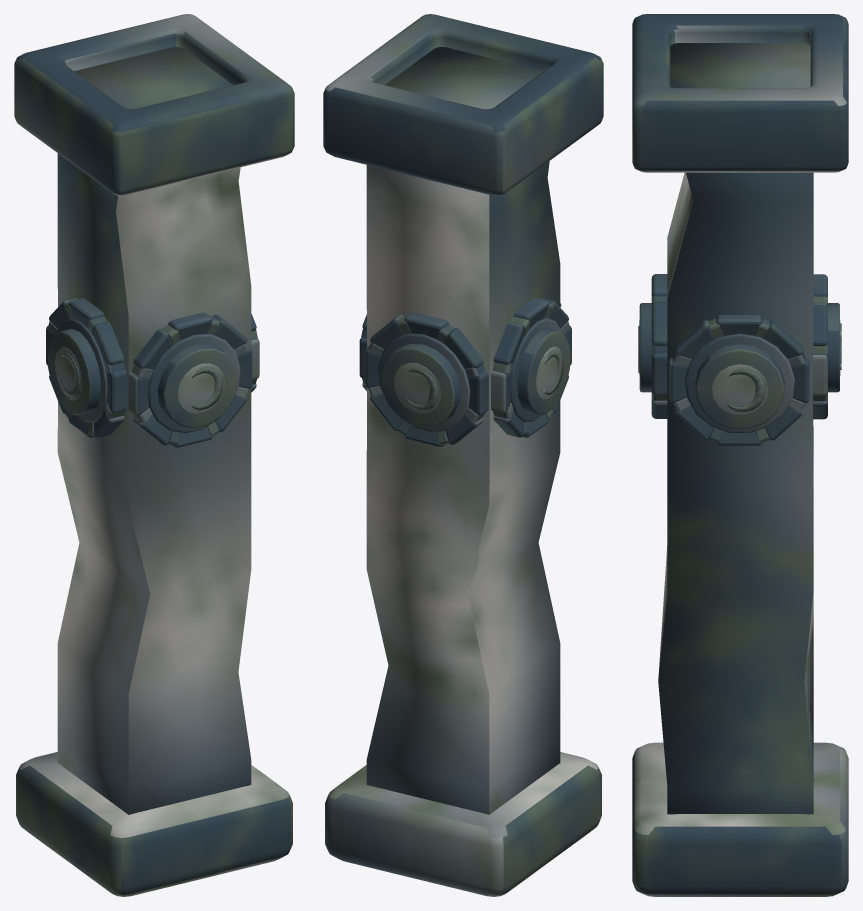
Rendered from Pilaaf 1.fbx.
The picture shows the model from 3 angles, left to right: view 1: azimuth 30°, elevation 25°; view 2: azimuth 150°, elevation 25°; view 3: azimuth 270°, elevation 25°; orthographic projection. The views are drawn at different scales.
Visible parts, largest first — view 1: Cube.003; view 2: Cube.003; view 3: Cube.003.
Boxes of the visible parts, bbox=[...] form: Cube.003: bbox=[14, 14, 294, 896]; Cube.003: bbox=[323, 14, 603, 896]; Cube.003: bbox=[632, 14, 848, 896].
Bounding box in the file's own units: 62.88 × 257 × 62.88.
